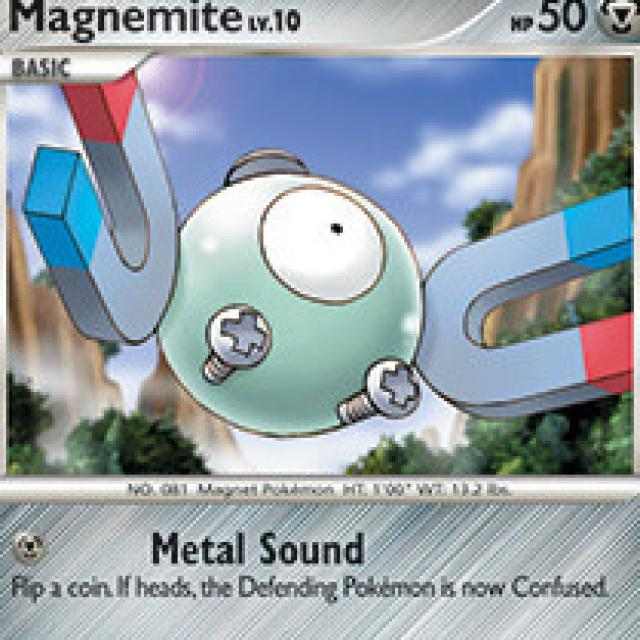Magnemite: (12, 134, 640, 434)
